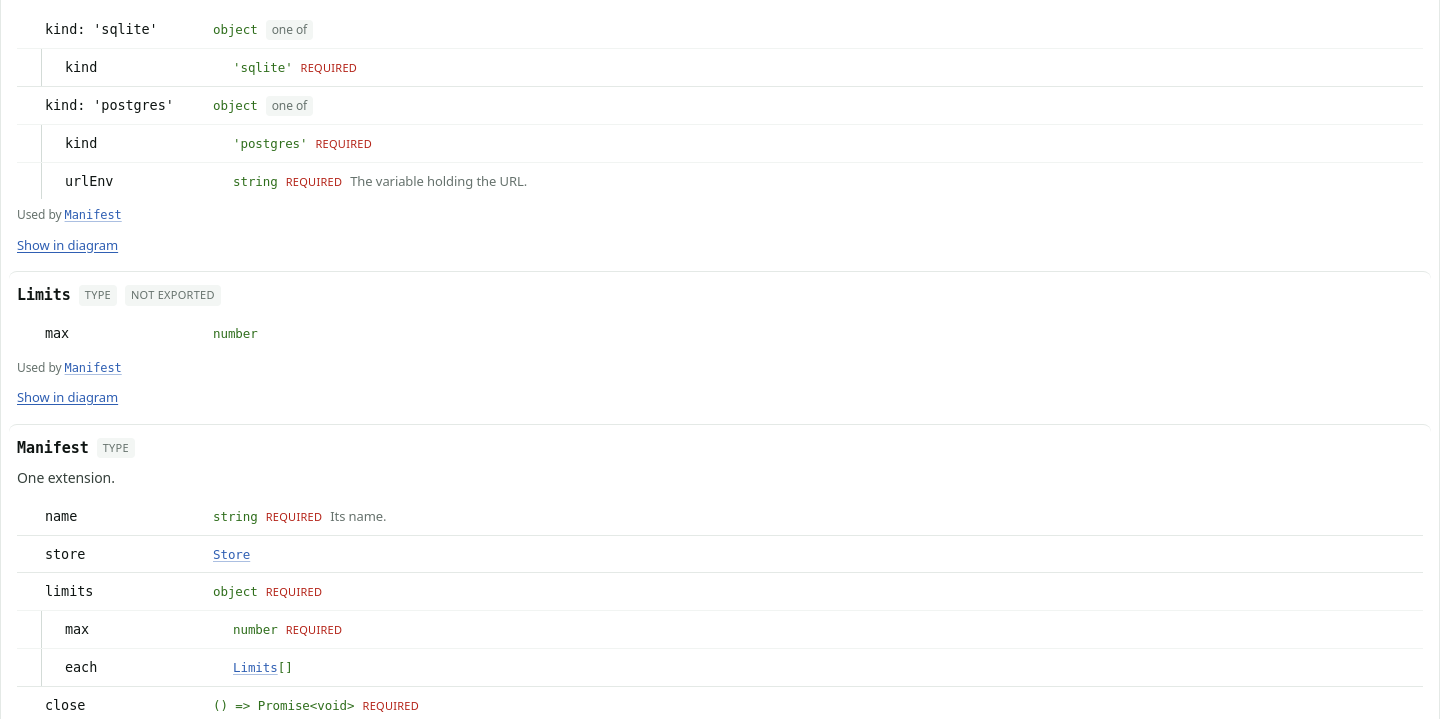
Test: a type card centres the diagram on it, so a type no tap in the diagram reaches is still one press away
The image size is (1440, 719).
(page scrolled)
Click the button "Show in diagram" below "not exported". click: (68, 398)
box: [17,376,118,420]
(page scrolled)
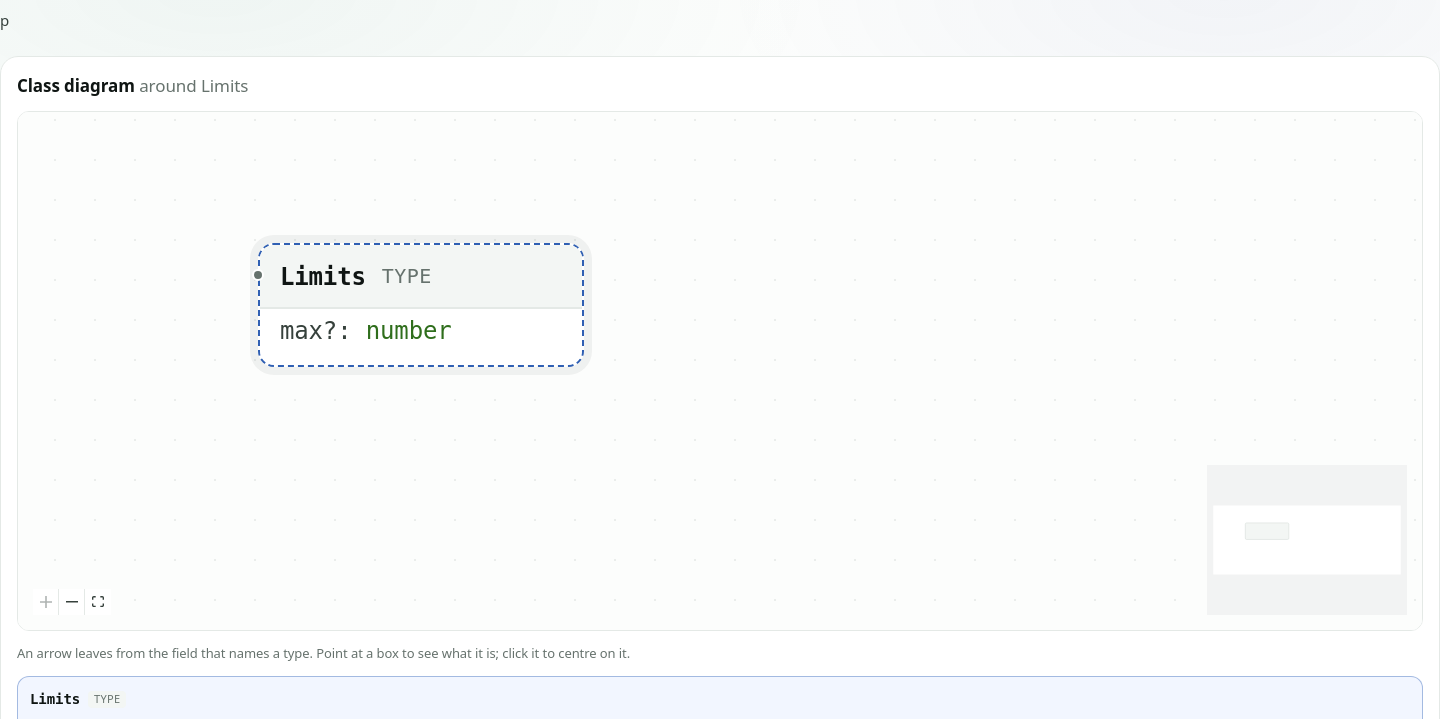
Expected: the button "Show in diagram" is not shown
Expected: the heading shows "around Limits", [17,74,248,97]
